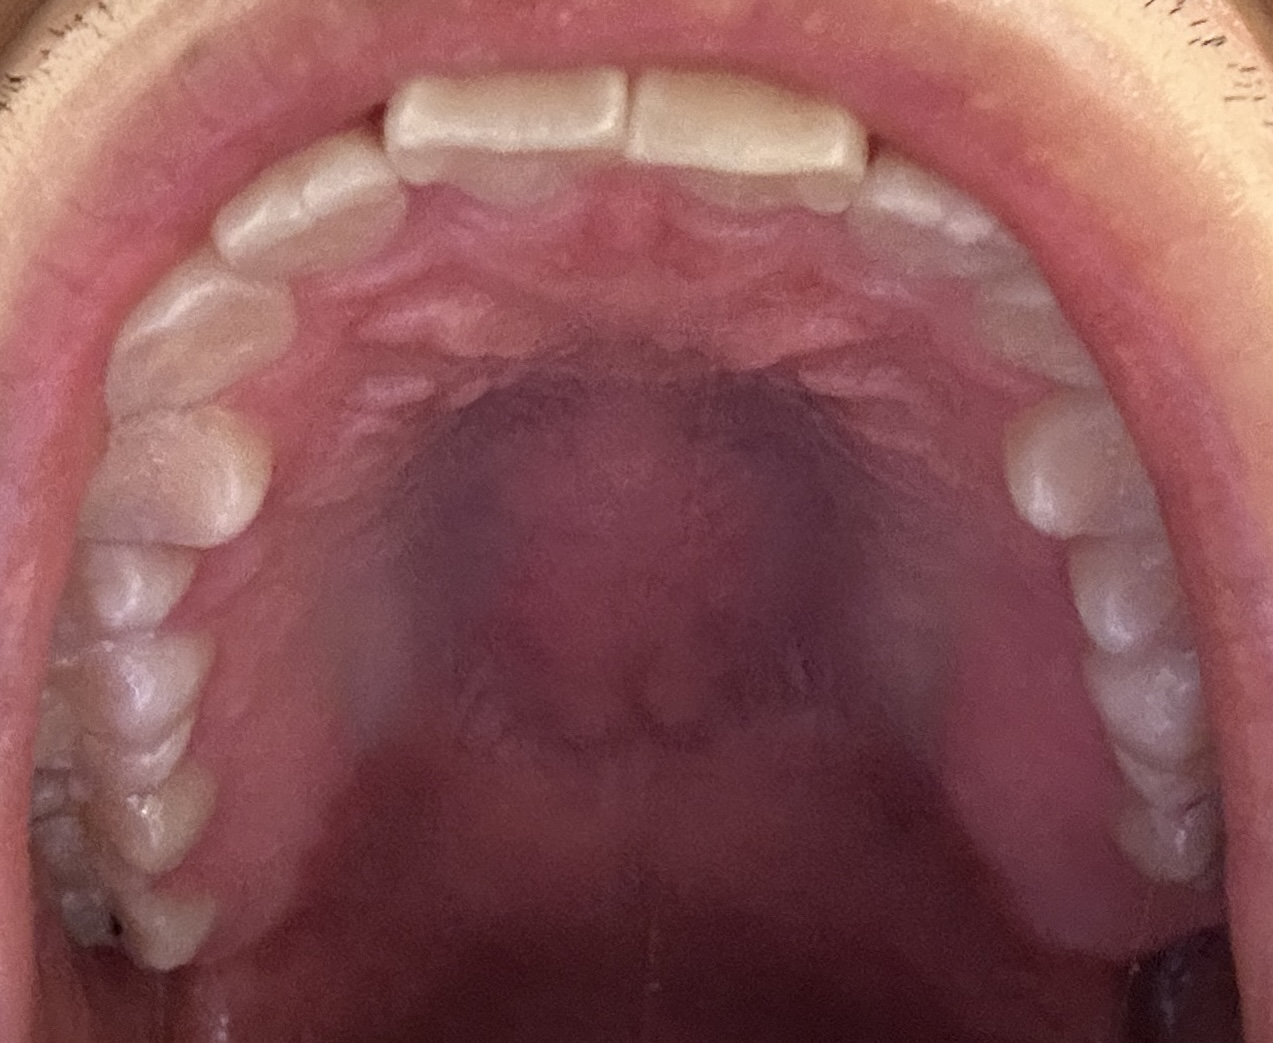teeth: (21, 630, 209, 819), (33, 777, 219, 967), (632, 74, 868, 223), (99, 256, 302, 423), (386, 66, 627, 201), (202, 122, 399, 280), (72, 408, 270, 550), (851, 146, 1034, 283), (1080, 643, 1217, 821), (1003, 396, 1152, 546), (966, 263, 1104, 386), (1063, 538, 1194, 658), (57, 543, 192, 654)
